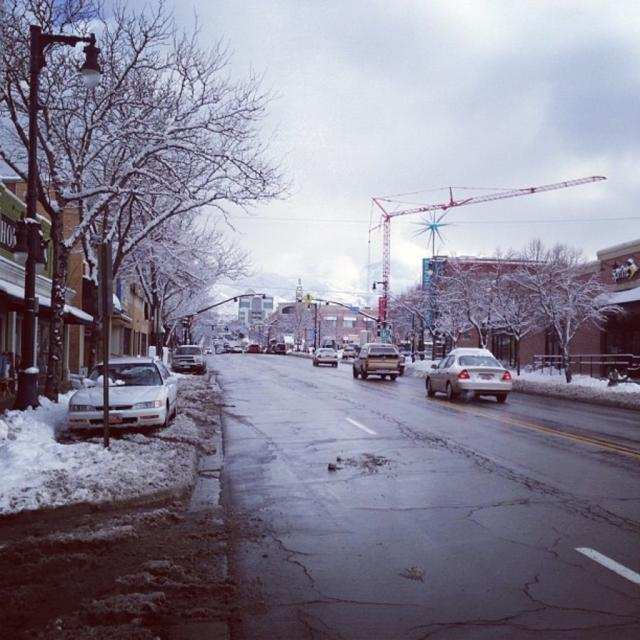car: (424, 348, 519, 404), (351, 341, 401, 377), (170, 339, 207, 373), (311, 344, 339, 365), (242, 344, 264, 355)
